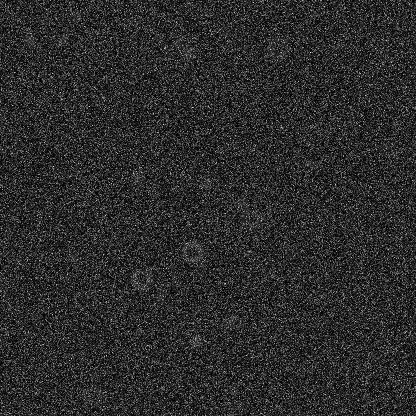Ring: (266, 35, 290, 59), (238, 208, 262, 232), (378, 135, 402, 159), (129, 267, 153, 291), (80, 383, 104, 407), (180, 239, 204, 263)
Spot: (67, 8, 83, 24), (20, 32, 36, 48), (129, 171, 145, 187), (169, 34, 185, 50), (178, 392, 194, 408), (66, 249, 82, 265), (234, 193, 250, 209), (55, 30, 71, 46), (188, 333, 204, 349), (151, 289, 167, 305), (76, 191, 92, 207), (10, 254, 26, 270), (179, 45, 195, 61), (197, 174, 213, 190), (121, 14, 137, 30), (222, 312, 238, 328), (305, 157, 321, 173)
